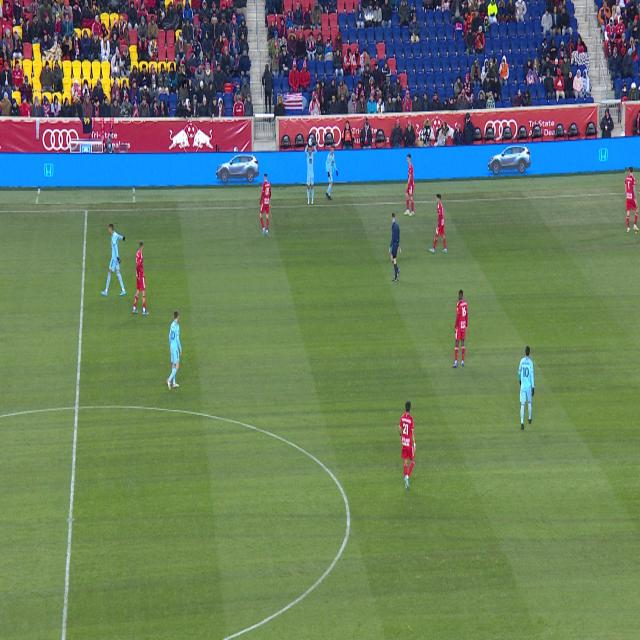player: (102, 225, 125, 295), (399, 402, 416, 480), (166, 311, 182, 389), (519, 346, 534, 429), (453, 291, 468, 367), (133, 242, 148, 314), (429, 194, 447, 253), (625, 168, 639, 232), (260, 174, 271, 234), (404, 154, 414, 216)
referee: (390, 213, 400, 280)
